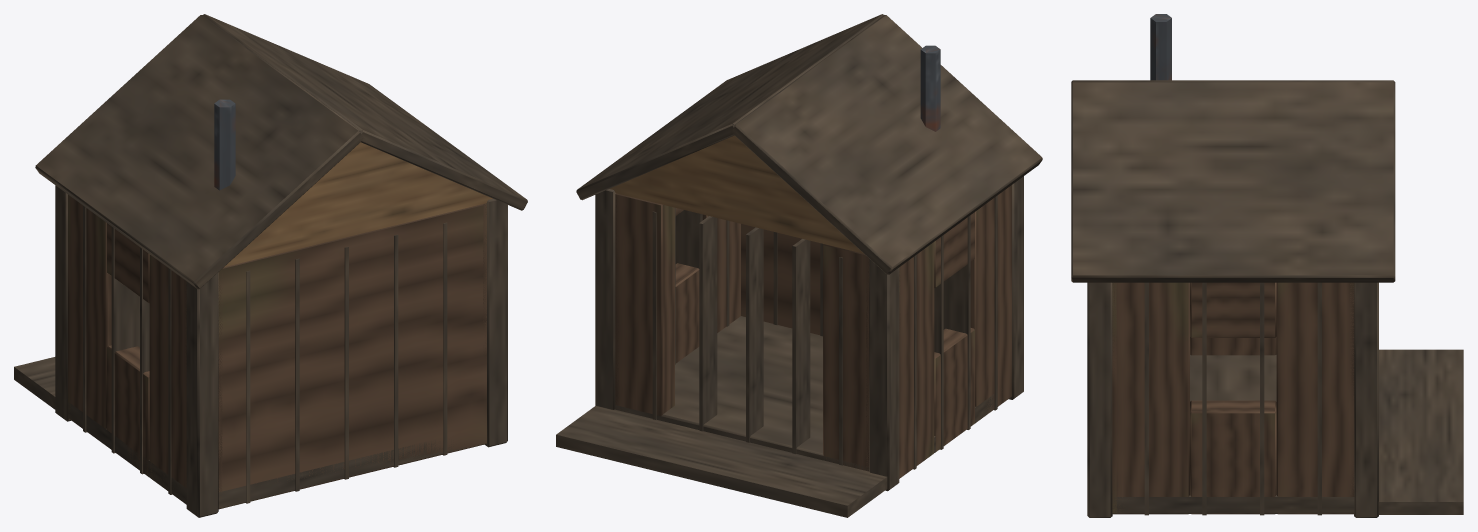
Rendered from SM_POI_SmallCabin.fbx.
3 renders of one model, left to right at view 1: azimuth 30°, elevation 25°; view 2: azimuth 150°, elevation 25°; view 3: azimuth 270°, elevation 25°, orthographic. The views are drawn at different scales.
Visible parts, largest first — view 1: SM_POI_SmallCabin; view 2: SM_POI_SmallCabin; view 3: SM_POI_SmallCabin.
Part boxes in pixels (box(x1,y1,x2,y2)): SM_POI_SmallCabin: box(14, 14, 527, 517); SM_POI_SmallCabin: box(556, 14, 1042, 517); SM_POI_SmallCabin: box(1071, 14, 1463, 517).
Bounding box in the file's own units: 10.87 × 11.6 × 10.9.
1 material, 1 textured.
